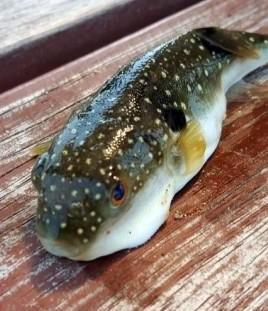fish: (31, 27, 267, 260)
